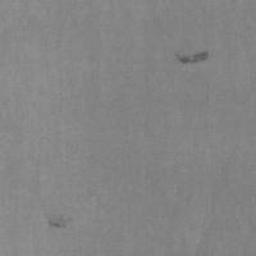Inclusion: (175, 50, 211, 67), (47, 212, 73, 230)
